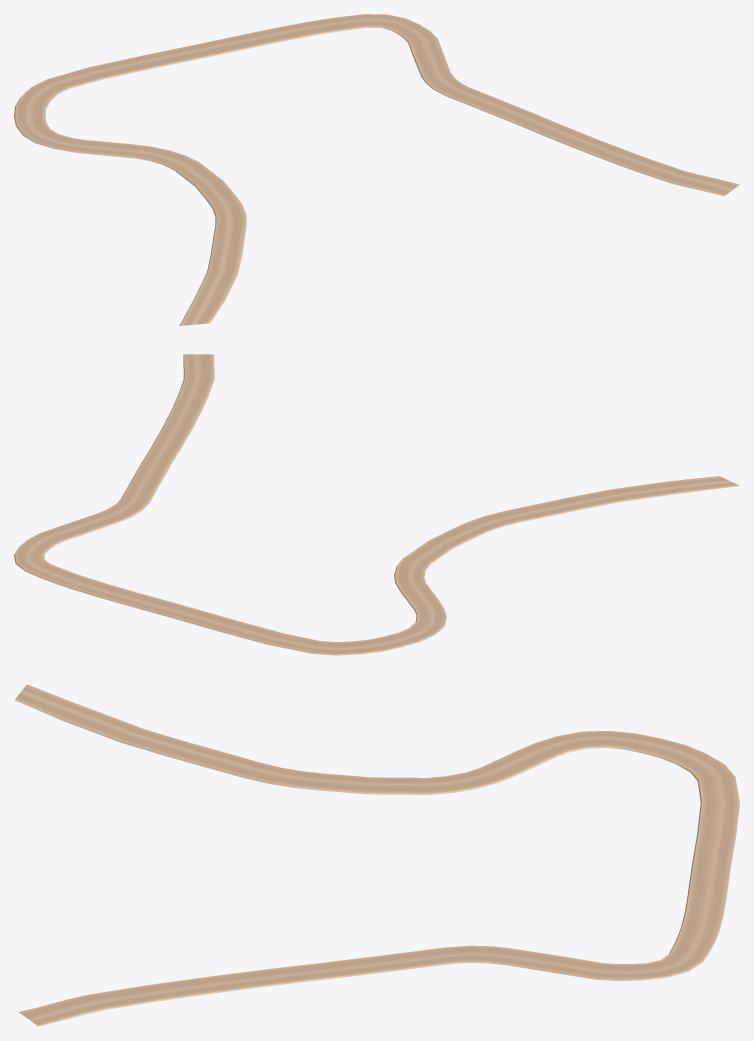
File: SM_JeepPathway.fbx
The picture shows the model from 3 angles, top to bottom: view 1: azimuth 30°, elevation 25°; view 2: azimuth 150°, elevation 25°; view 3: azimuth 270°, elevation 25°; orthographic projection. The views are drawn at different scales.
Parts seen in each view (by area): view 1: Jeep_Pathway; view 2: Jeep_Pathway; view 3: Jeep_Pathway.
Part boxes in pixels (x1,y1,x2,y2): Jeep_Pathway: (14,14,739,325); Jeep_Pathway: (14,354,739,655); Jeep_Pathway: (14,684,739,1026).
Bounding box in the file's own units: 13199 × 18.92 × 11838.
1 material, 1 textured.
